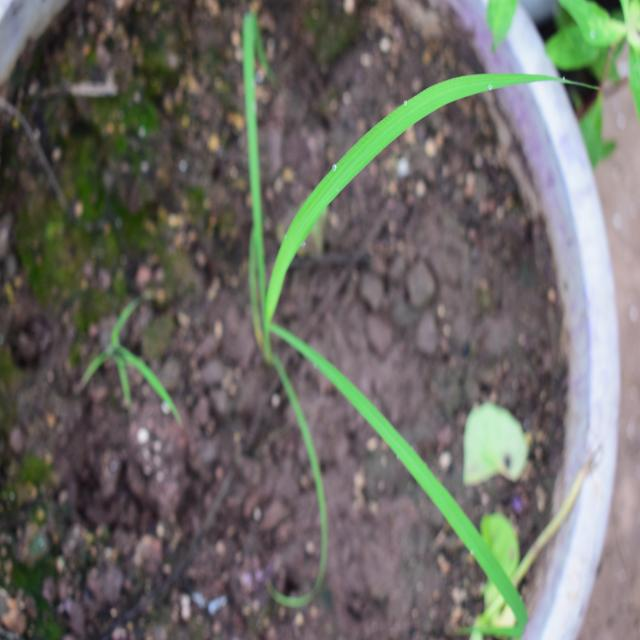barnyard_grass: (212, 48, 574, 616)
